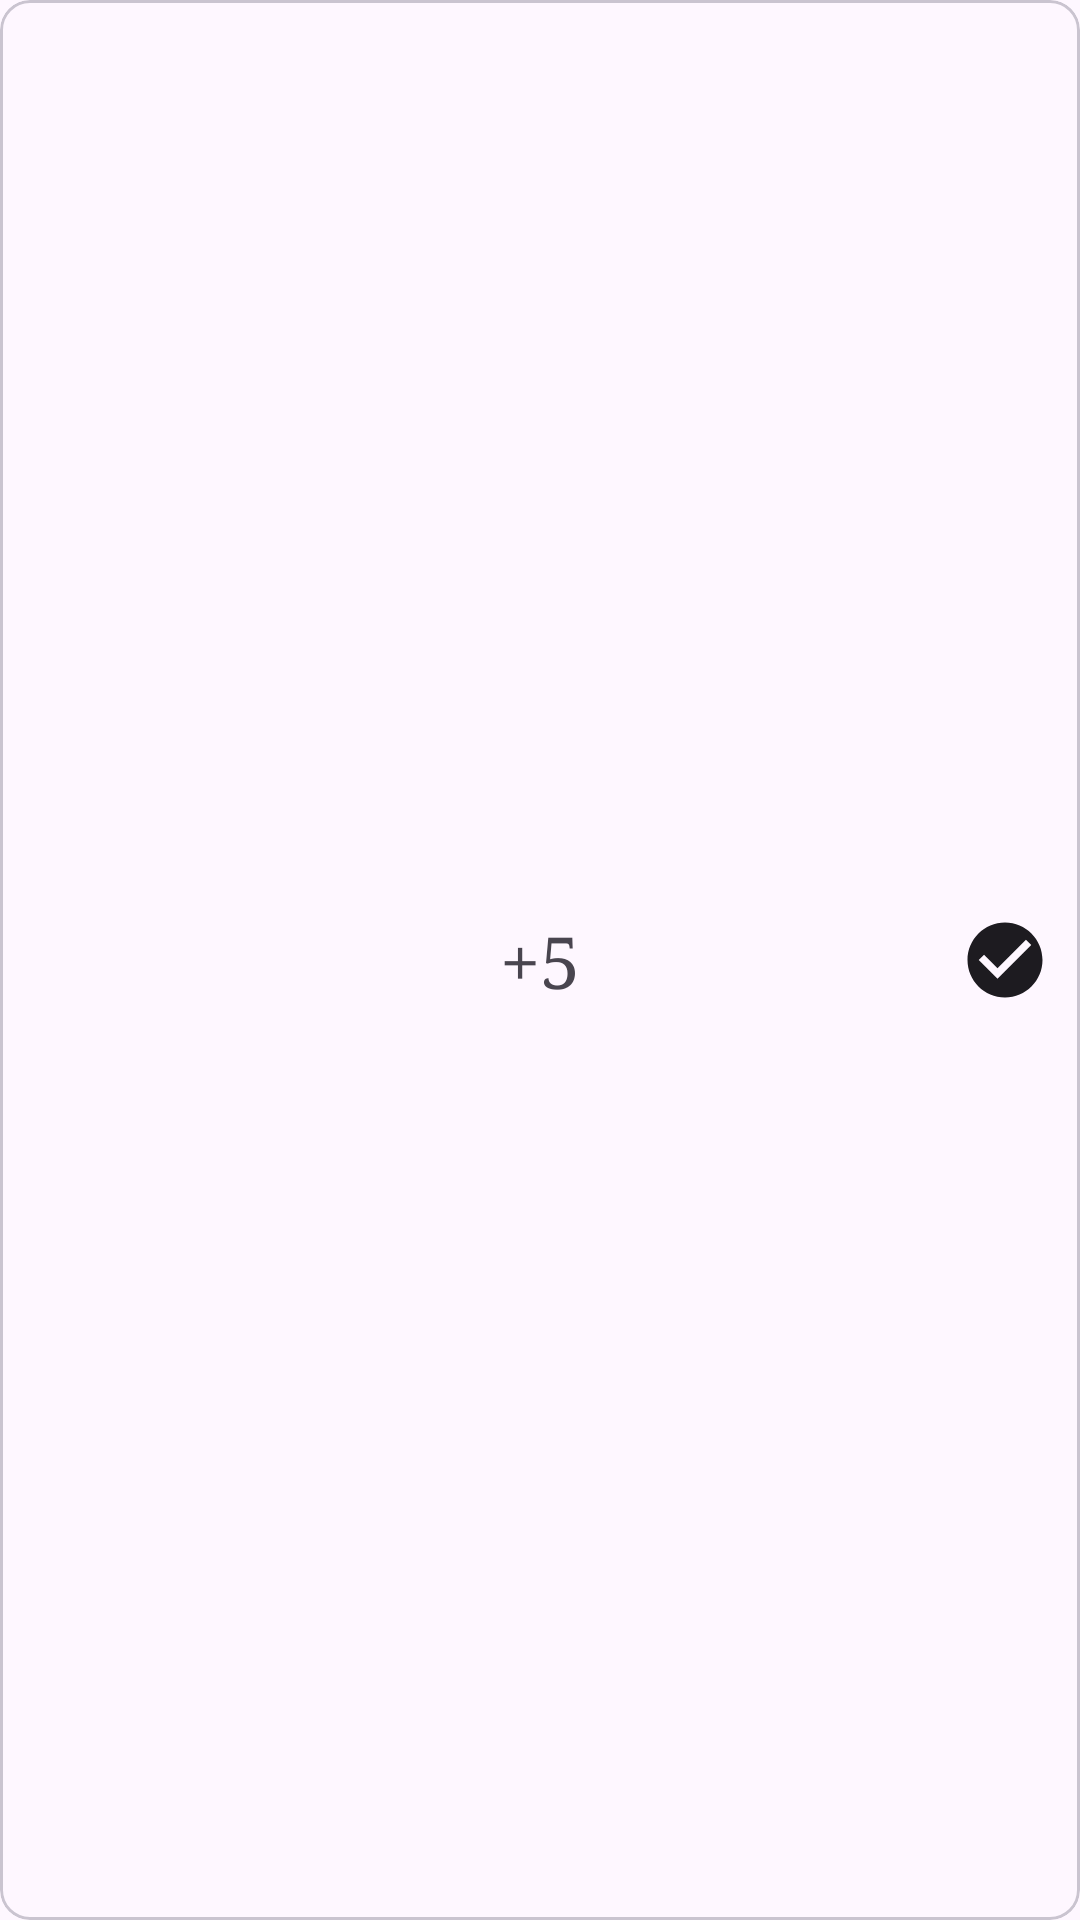

Screen size 1080w x 1920h. Icon name, then its center in pixels as (x=x, y=y):
check circle: (x=1005, y=960)
